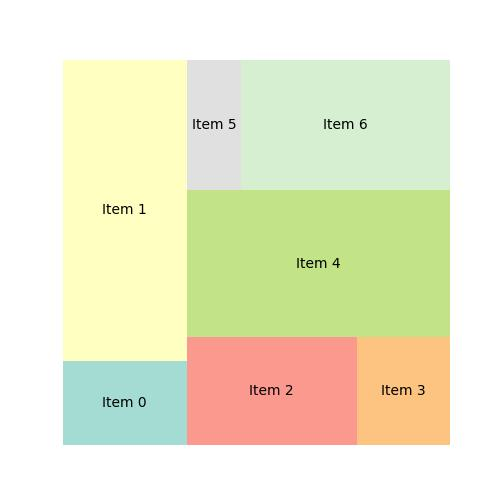rectangle: (187, 189, 449, 336), (61, 58, 187, 362), (241, 60, 449, 191), (186, 336, 357, 444), (357, 336, 451, 445), (63, 362, 186, 445), (187, 60, 240, 190)
